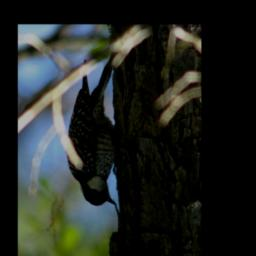Woodpecker: (66, 53, 119, 208)
